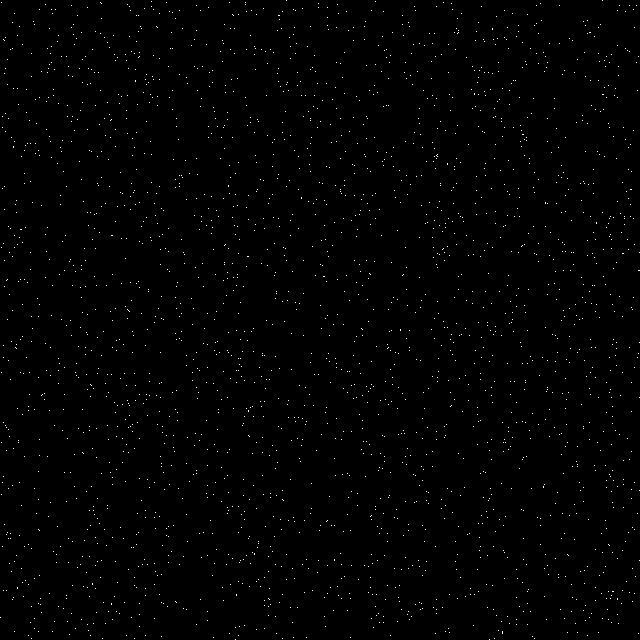Circle: (19, 18, 620, 623)
